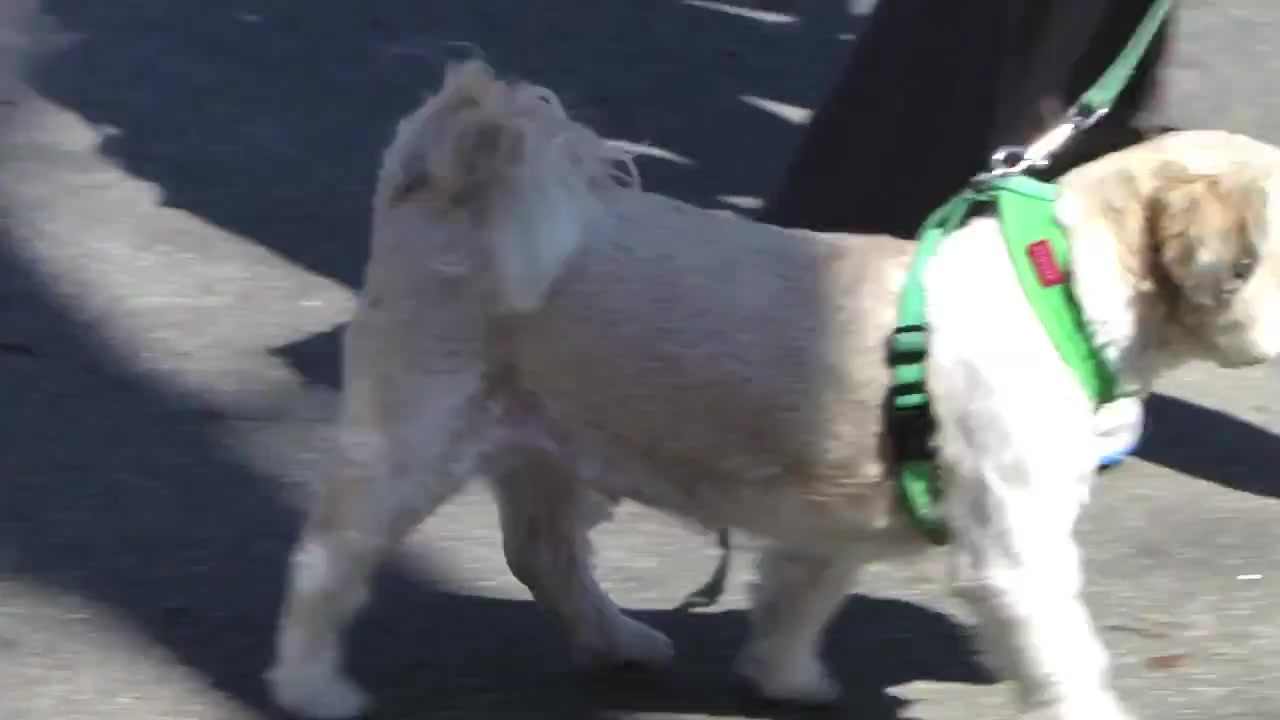dog: (268, 46, 1280, 720)
